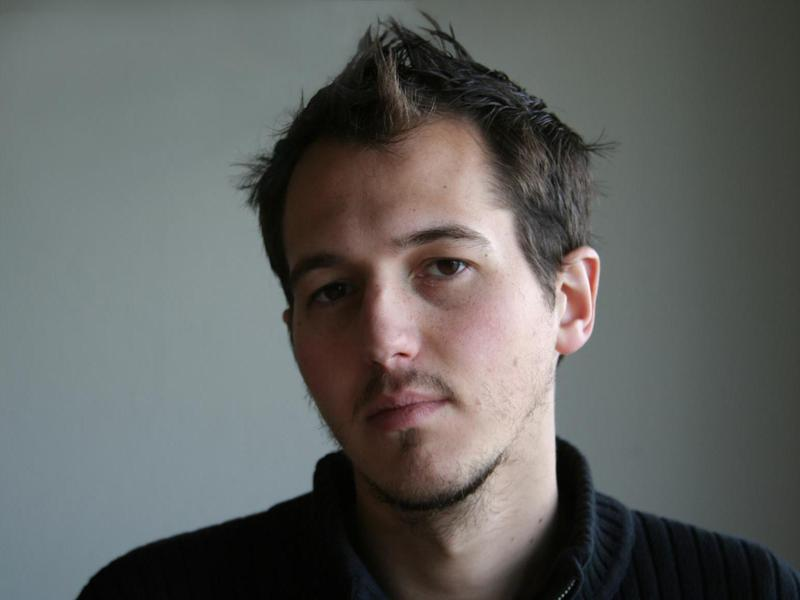person: (77, 18, 799, 600)
